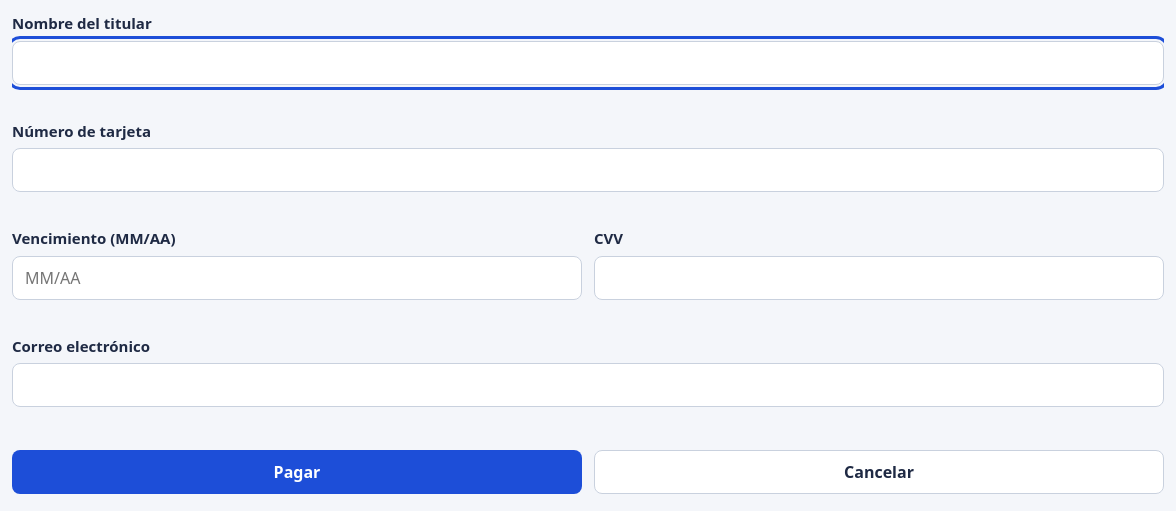
Test case: PaymentForm › errors › shows every error on submit and focuses the first invalid field
Click the button "Pagar": {"x": 297, "y": 472} top-left (12, 450), bottom-right (582, 494)
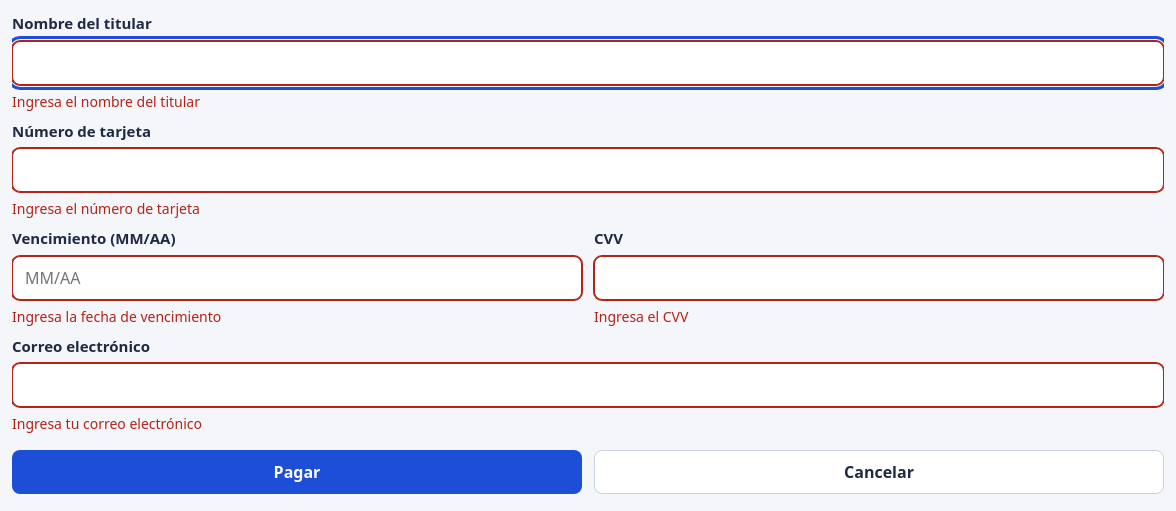
Check: the number of messages is 5, box top-left (12, 92), bottom-right (200, 110); top-left (12, 199), bottom-right (200, 218); top-left (12, 306), bottom-right (221, 326); top-left (594, 306), bottom-right (688, 326); top-left (12, 414), bottom-right (202, 433)
